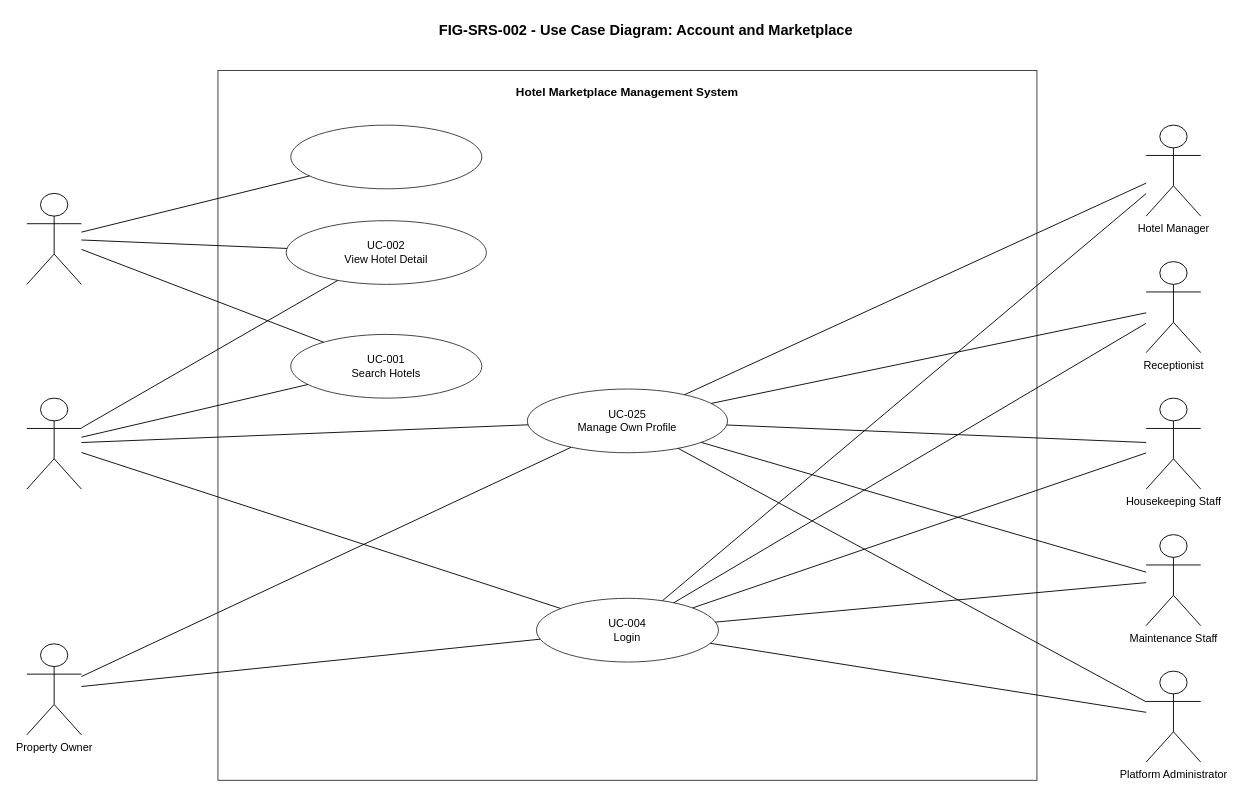
Image size: 1242x796. Some labels were removed from this diagram. The shapes that lost their labels are listed below. From the top down, each one's centre as x and y in pixels, then its label:
At point 386,156: "UC-003 Register Account".
At point 53,238: "Guest".
At point 53,443: "Customer".
